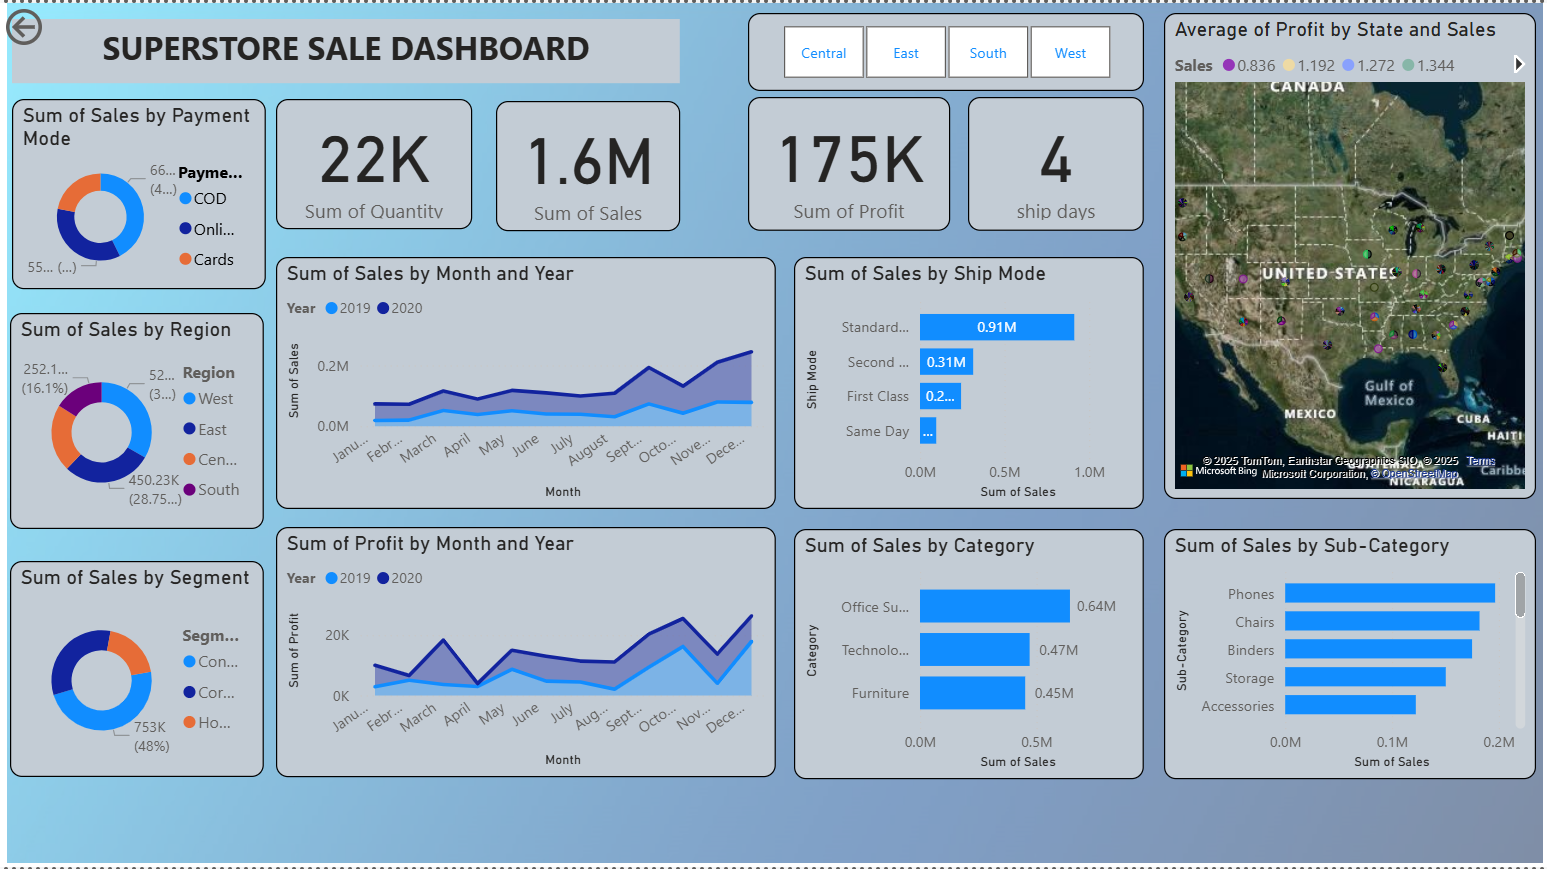

This screenshot's page, from the dashboard's own definition file:
{"tool":"powerbi","page":{"name":"Page 1","canvas":[1292,720],"ordinal":0},"visuals":[{"type":"textbox","box":[10,13.3,556.7,53.3],"z":0},{"type":"actionButton","box":[0,0,100,40],"z":1000},{"type":"donutChart","fields":{"Y":["Sum(Sheet1 (2).Sales)"],"Category":["Sheet1 (2).Payment Mode"]},"box":[10,80,211.4,158.6],"z":2000},{"type":"donutChart","fields":{"Y":["Sum(Sheet1 (2).Sales)"],"Category":["Sheet1 (2).Segment"]},"box":[8.3,465,211.7,180],"z":3000},{"type":"donutChart","fields":{"Category":["Sheet1 (2).Region"],"Y":["Sum(Sheet1 (2).Sales)"]},"box":[8.3,258.3,211.7,180],"z":4000},{"type":"card","fields":{"Values":["Sum(Sheet1 (2).Quantity)"]},"box":[230,80,163.3,108.3],"z":5000},{"type":"card","fields":{"Values":["Sum(Sheet1 (2).Sales)"]},"box":[413.3,81.7,153.3,108.3],"z":6000},{"type":"card","fields":{"Values":["Sum(Sheet1 (2).Profit)"]},"box":[623.3,78.3,168.3,111.7],"z":7000},{"type":"card","fields":{"Values":["Count(Sheet1 (2).Ship Mode)"]},"box":[806.7,78.3,146.7,111.7],"z":8000},{"type":"stackedAreaChart","fields":{"Category":["Sheet1 (2).Order Date.Variation.Date Hierarchy.Month"],"Y":["Sum(Sheet1 (2).Sales)"],"Series":["Sheet1 (2).Order Date.Variation.Date Hierarchy.Year"]},"box":[230,211.7,416.7,210],"z":9000},{"type":"slicer","fields":{"Values":["Sheet1 (2).Region"]},"box":[623.3,8.3,330,65],"z":10000},{"type":"stackedAreaChart","fields":{"Series":["Sheet1 (2).Order Date.Variation.Date Hierarchy.Year"],"Category":["Sheet1 (2).Order Date.Variation.Date Hierarchy.Month"],"Y":["Sum(Sheet1 (2).Profit)"]},"box":[230,436.7,416.7,208.3],"z":11000},{"type":"barChart","fields":{"Y":["Sum(Sheet1 (2).Sales)"],"Category":["Sheet1 (2).Ship Mode"]},"box":[661.7,211.7,291.7,210],"z":12000},{"type":"map","fields":{"Category":["Sheet1 (2).State"],"Series":["Sheet1 (2).Sales"],"Y":["Avg(Sheet1 (2).Profit)"]},"box":[970,8.3,310,405],"z":13000},{"type":"clusteredBarChart","fields":{"Y":["Sum(Sheet1 (2).Sales)"],"Category":["Sheet1 (2).Category"]},"box":[661.7,438.3,291.7,208.3],"z":14000},{"type":"clusteredBarChart","fields":{"Y":["Sum(Sheet1 (2).Sales)"],"Category":["Sheet1 (2).Sub-Category"]},"box":[970,438.3,310,208.3],"z":15000}]}

Visuals, with their boxes in screenshot pixels (x1, y1, x2, y2), scaled from the page's 1292x720 canvas onto the 1547x869 screenshot:
textbox: [x1=12, y1=16, x2=679, y2=80]
actionButton: [x1=0, y1=0, x2=120, y2=48]
donutChart - Sum(Sheet1 (2).Sales) x Sheet1 (2).Payment Mode: [x1=12, y1=97, x2=265, y2=288]
donutChart - Sum(Sheet1 (2).Sales) x Sheet1 (2).Segment: [x1=10, y1=561, x2=263, y2=778]
donutChart - Sheet1 (2).Region x Sum(Sheet1 (2).Sales): [x1=10, y1=312, x2=263, y2=529]
card - Sum(Sheet1 (2).Quantity): [x1=275, y1=97, x2=471, y2=227]
card - Sum(Sheet1 (2).Sales): [x1=495, y1=99, x2=678, y2=229]
card - Sum(Sheet1 (2).Profit): [x1=746, y1=95, x2=948, y2=229]
card - Count(Sheet1 (2).Ship Mode): [x1=966, y1=95, x2=1142, y2=229]
stackedAreaChart - Sheet1 (2).Order Date.Variation.Date Hierarchy.Month x Sum(Sheet1 (2).Sales): [x1=275, y1=256, x2=774, y2=509]
slicer - Sheet1 (2).Region: [x1=746, y1=10, x2=1141, y2=88]
stackedAreaChart - Sheet1 (2).Order Date.Variation.Date Hierarchy.Year x Sheet1 (2).Order Date.Variation.Date Hierarchy.Month: [x1=275, y1=527, x2=774, y2=778]
barChart - Sum(Sheet1 (2).Sales) x Sheet1 (2).Ship Mode: [x1=792, y1=256, x2=1142, y2=509]
map - Sheet1 (2).State x Sheet1 (2).Sales: [x1=1161, y1=10, x2=1533, y2=499]
clusteredBarChart - Sum(Sheet1 (2).Sales) x Sheet1 (2).Category: [x1=792, y1=529, x2=1142, y2=780]
clusteredBarChart - Sum(Sheet1 (2).Sales) x Sheet1 (2).Sub-Category: [x1=1161, y1=529, x2=1533, y2=780]
